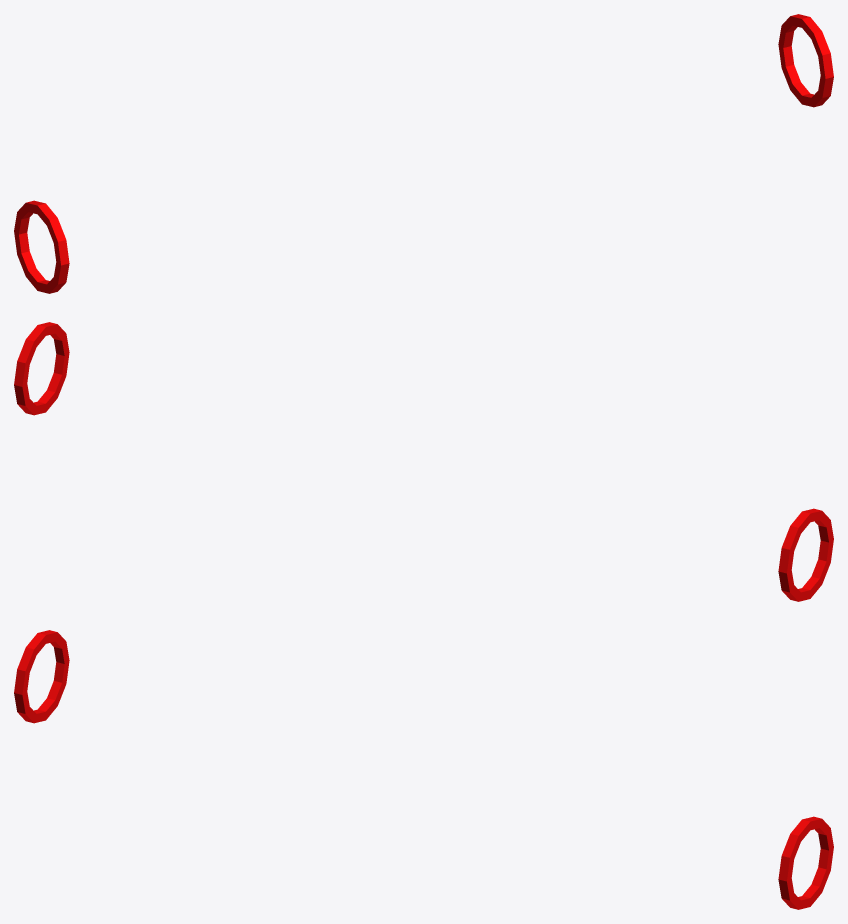
File: ears_hoop_01.glb
The picture shows the model from 3 angles, top to bottom: view 1: azimuth 30°, elevation 25°; view 2: azimuth 150°, elevation 25°; view 3: azimuth 330°, elevation 25°; orthographic projection.
Visible parts, largest first — view 1: ears_hoop_01; view 2: ears_hoop_01; view 3: ears_hoop_01.
Part boxes in pixels (bbox=[...]): ears_hoop_01: bbox=[14, 14, 833, 293]; ears_hoop_01: bbox=[14, 322, 833, 601]; ears_hoop_01: bbox=[14, 630, 833, 909].
Size of the model in its own units: 0.2851 by 0.0301 by 0.0301.
1 material, 1 textured.
